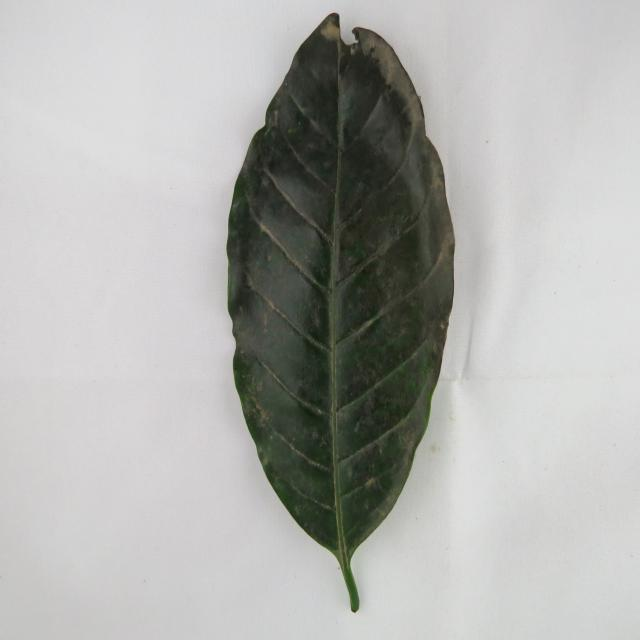DeficienciaNutricional-Boro: (228, 13, 455, 612)
